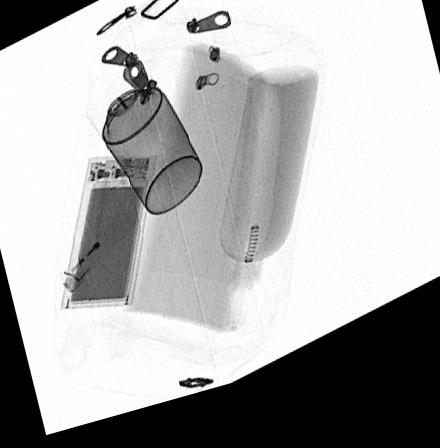Lighter: (59, 214, 135, 294)
Powerbank: (60, 161, 156, 312)
Sprayer: (85, 73, 203, 223)
